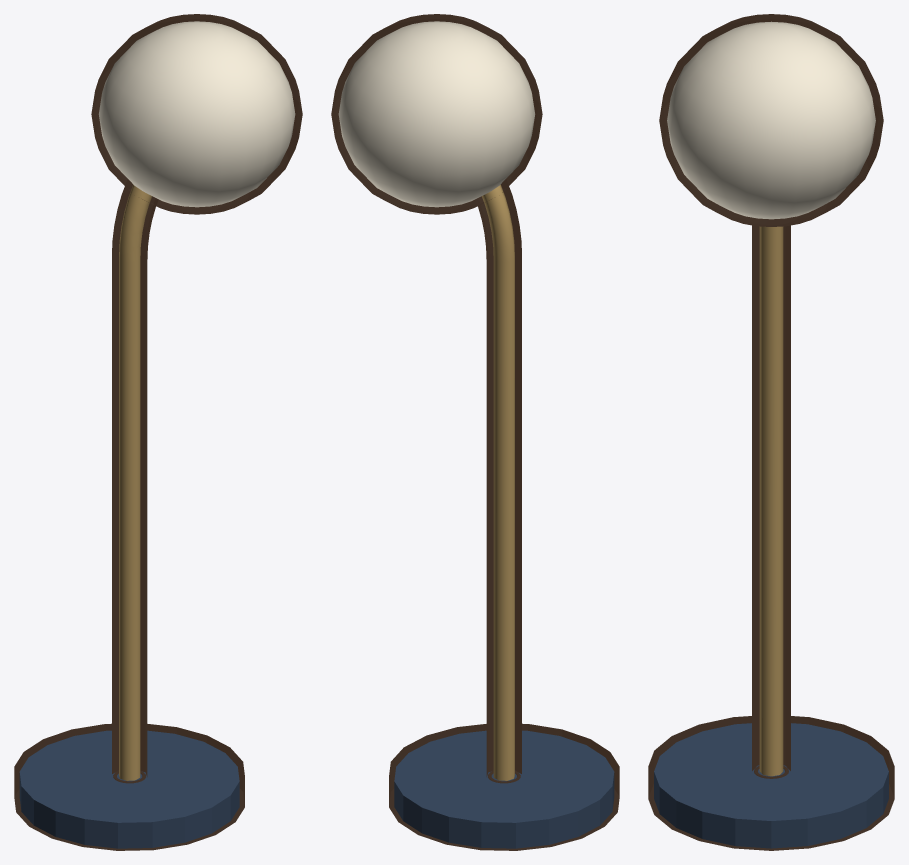
Rendered from observatory-lamp.glb.
3 views of the same model, side by side, from view 1: azimuth 30°, elevation 25°; view 2: azimuth 150°, elevation 25°; view 3: azimuth 270°, elevation 25° (orthographic). The views are drawn at different scales.
Visible parts, largest first — view 1: observatory-lamp, observatory-lamp-outline; view 2: observatory-lamp, observatory-lamp-outline; view 3: observatory-lamp, observatory-lamp-outline.
Part boxes in pixels (x1,y1,x2,y2): observatory-lamp: [19, 21, 295, 848]; observatory-lamp-outline: [14, 14, 302, 850]; observatory-lamp: [338, 21, 614, 848]; observatory-lamp-outline: [331, 14, 619, 850]; observatory-lamp: [654, 21, 888, 848]; observatory-lamp-outline: [648, 14, 894, 850].
Size of the model in its own units: 0.7313 by 2.06 by 0.5666.
